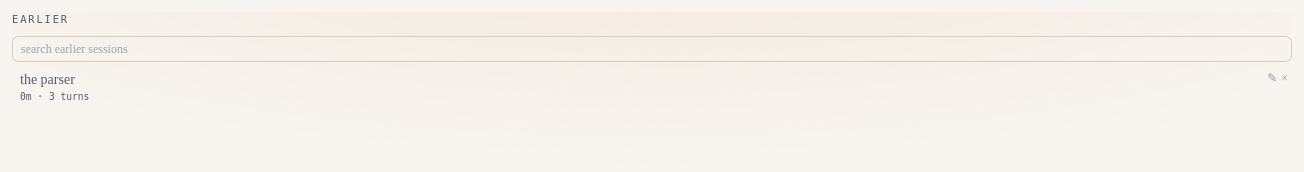
Test: EarlierList › shows the server's reason when a delete is refused
Click the button named "delete the parser": click(1285, 78) [1281,70,1288,86]
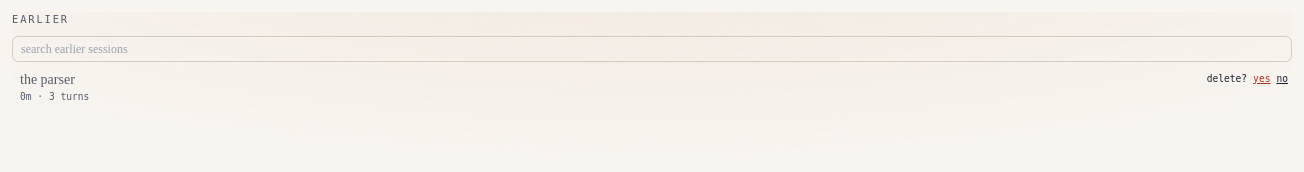
Click the button "yes": click(1262, 79) [1253,72,1270,86]
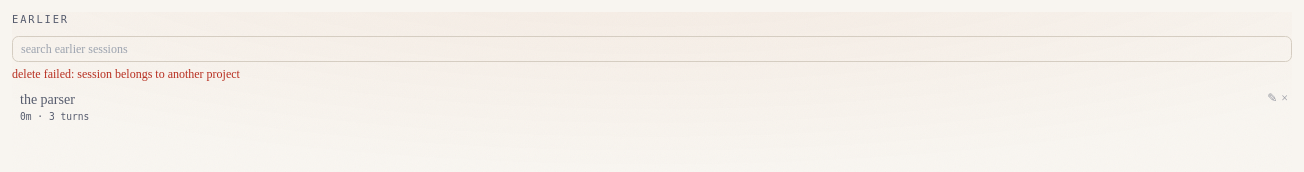
Check: the text "delete failed: session belongs to another project" is shown, box [12,67,240,81]
